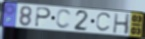2: (73, 10, 91, 32)
8: (19, 6, 33, 28)
C: (55, 8, 73, 30), (95, 12, 113, 33)
H: (112, 13, 131, 36)
P: (34, 6, 53, 28)
